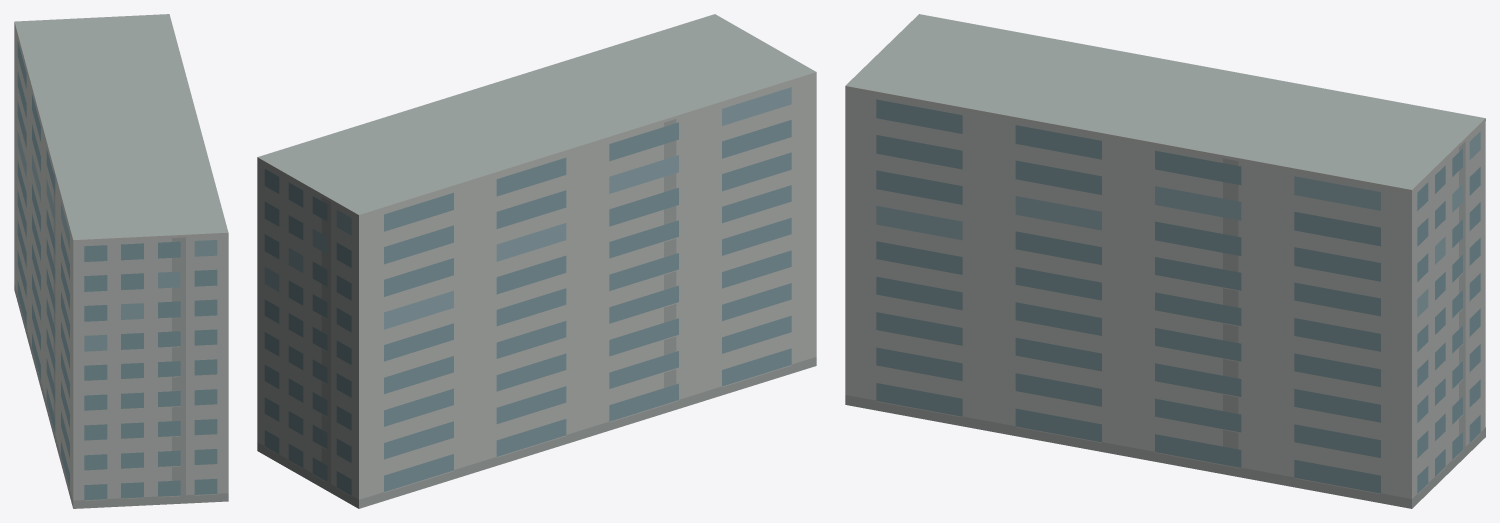
Rendered from residential-5fa5c112-d612-4b39-a107-bdabcf03875f.glb.
The picture shows the model from 3 angles, left to right: view 1: azimuth 30°, elevation 25°; view 2: azimuth 150°, elevation 25°; view 3: azimuth 270°, elevation 25°; orthographic projection. The views are drawn at different scales.
Visible parts, largest first — view 1: residential-5fa5c112-d612-4b39-a107-bdabcf03875f.tmp; view 2: residential-5fa5c112-d612-4b39-a107-bdabcf03875f.tmp; view 3: residential-5fa5c112-d612-4b39-a107-bdabcf03875f.tmp.
Boxes of the visible parts, x1,y1,x2,y2 form: residential-5fa5c112-d612-4b39-a107-bdabcf03875f.tmp: (14,14,228,508); residential-5fa5c112-d612-4b39-a107-bdabcf03875f.tmp: (257,14,816,508); residential-5fa5c112-d612-4b39-a107-bdabcf03875f.tmp: (845,14,1485,508).
Size of the model in its own units: 29.6 by 25 by 45.52.
